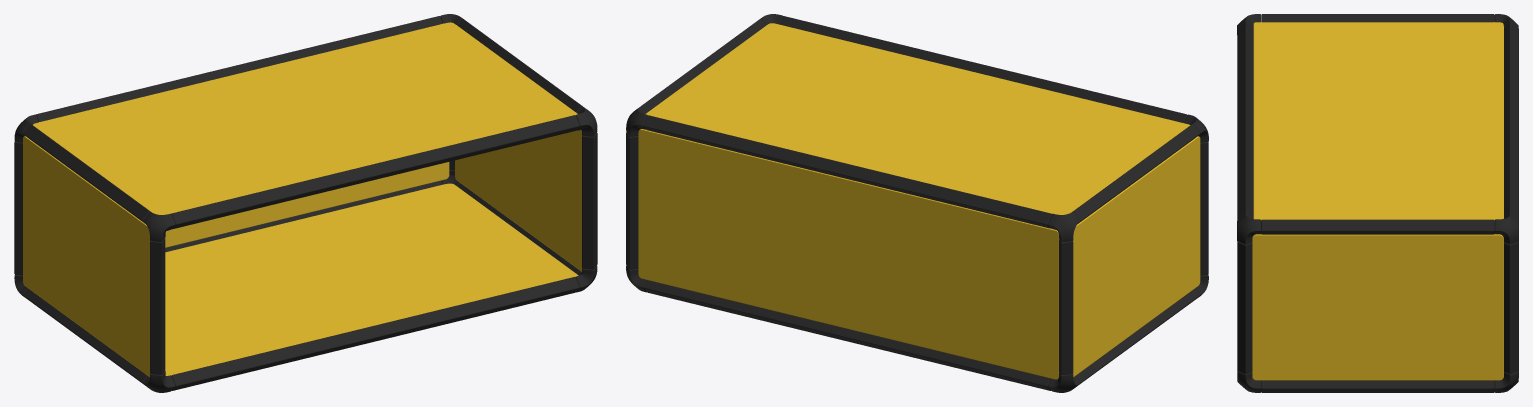
3 renders of one model, left to right at view 1: azimuth 30°, elevation 25°; view 2: azimuth 150°, elevation 25°; view 3: azimuth 270°, elevation 25°, orthographic. The views are drawn at different scales.
Visible parts, largest first — view 1: 729x374x229; view 2: 729x374x229; view 3: 729x374x229.
Boxes of the visible parts, bbox=[...] form: 729x374x229: bbox=[14, 14, 597, 392]; 729x374x229: bbox=[626, 14, 1208, 392]; 729x374x229: bbox=[1237, 14, 1518, 392].
Size of the model in its own units: 0.8067 by 0.3066 by 0.4513.
